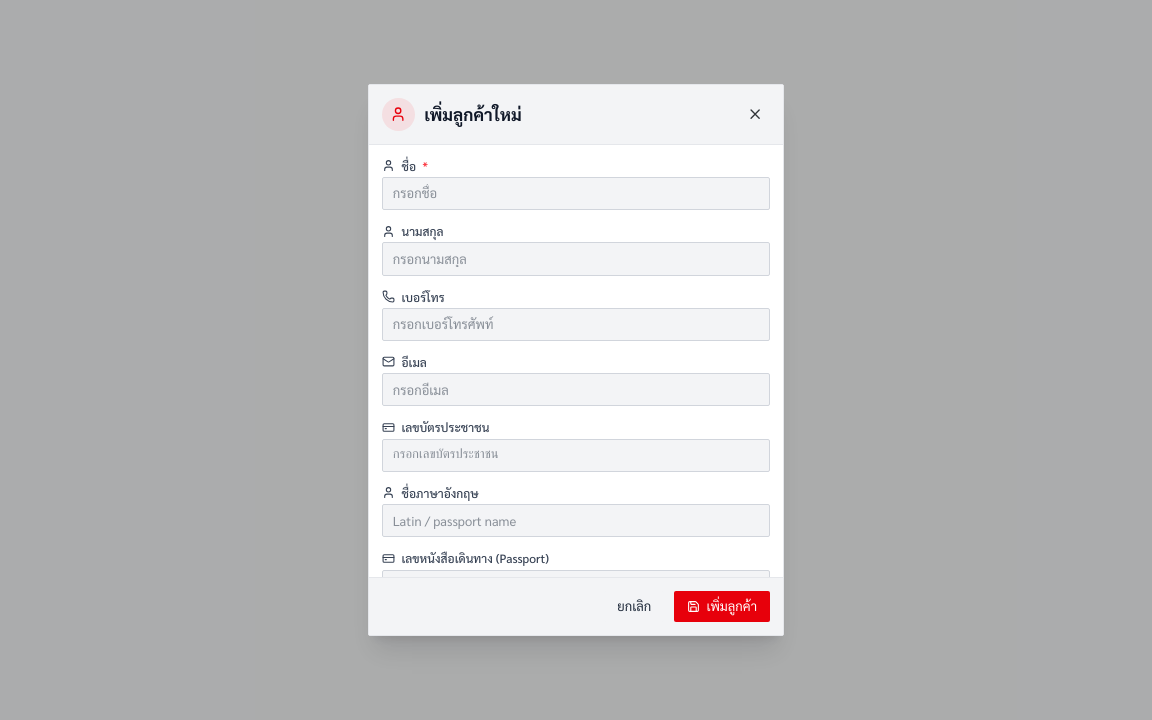
Test case: CustomerForm Component › Form Submission › shows error message on save failure
This screenshot has width=1152, height=720.
In the field with placeholder "กรอกชื่อ": (576, 194) x1=382 y1=177 x2=770 y2=210, type "Jane"
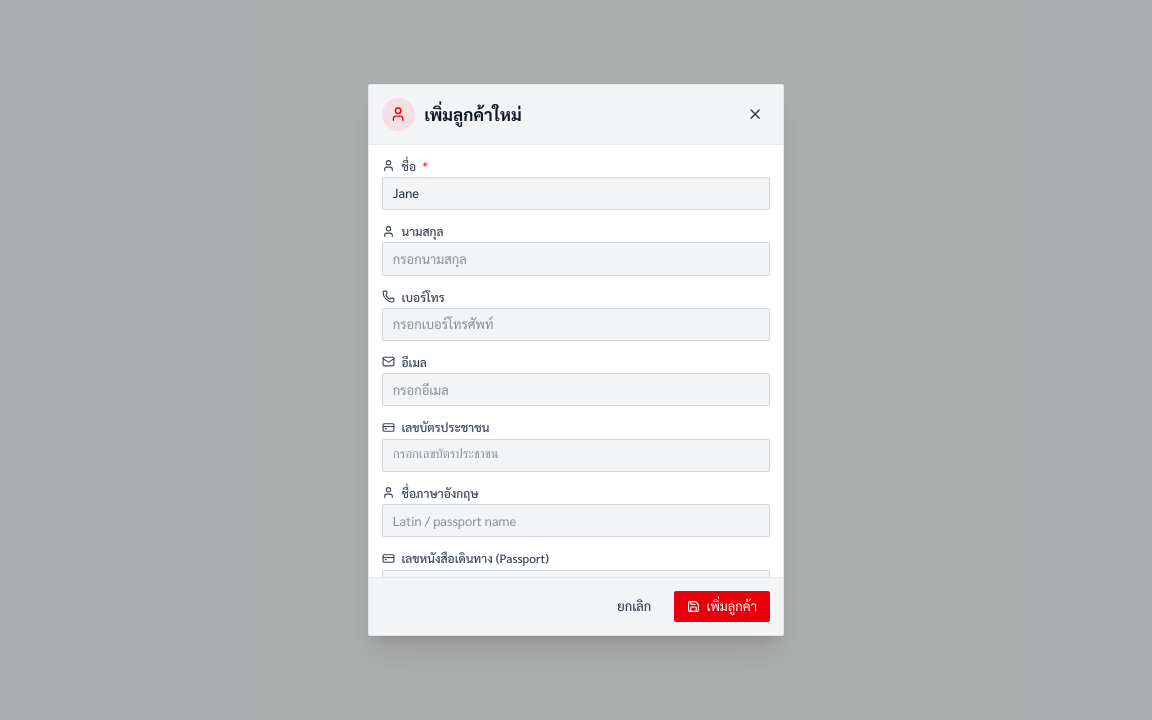
Click the button "เพิ่มลูกค้า": click(722, 606) x1=674 y1=591 x2=770 y2=622
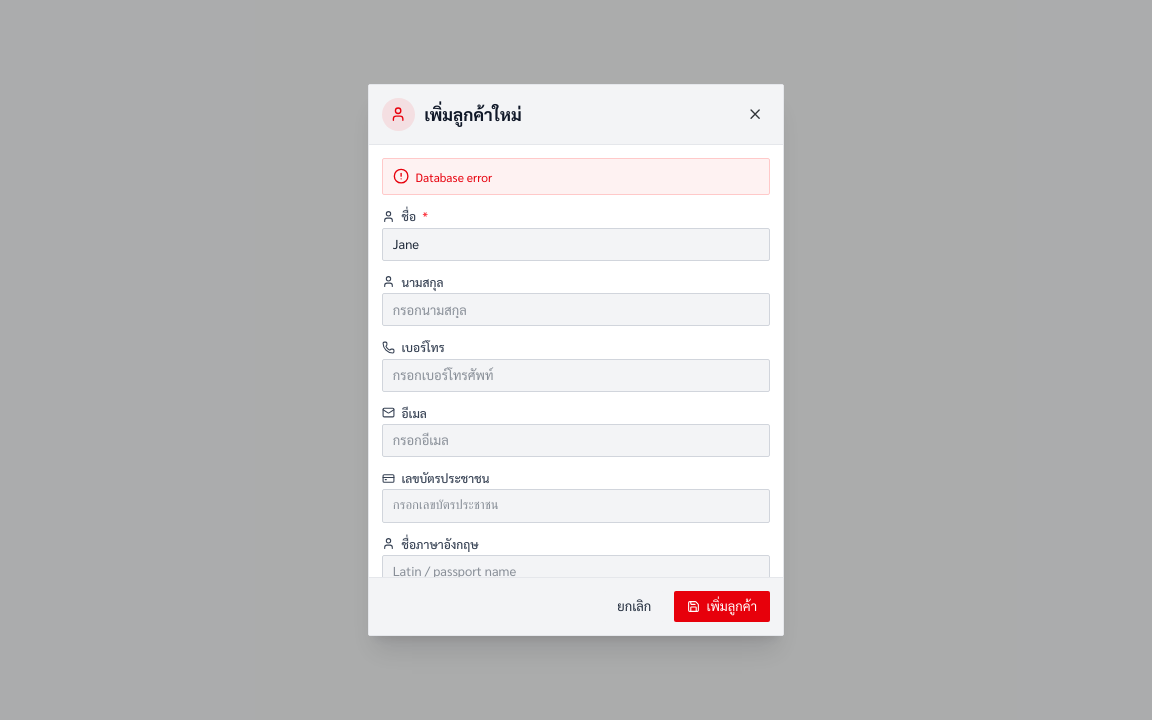
expect the text "Database error" is shown: met, box x1=416 y1=168 x2=492 y2=184
